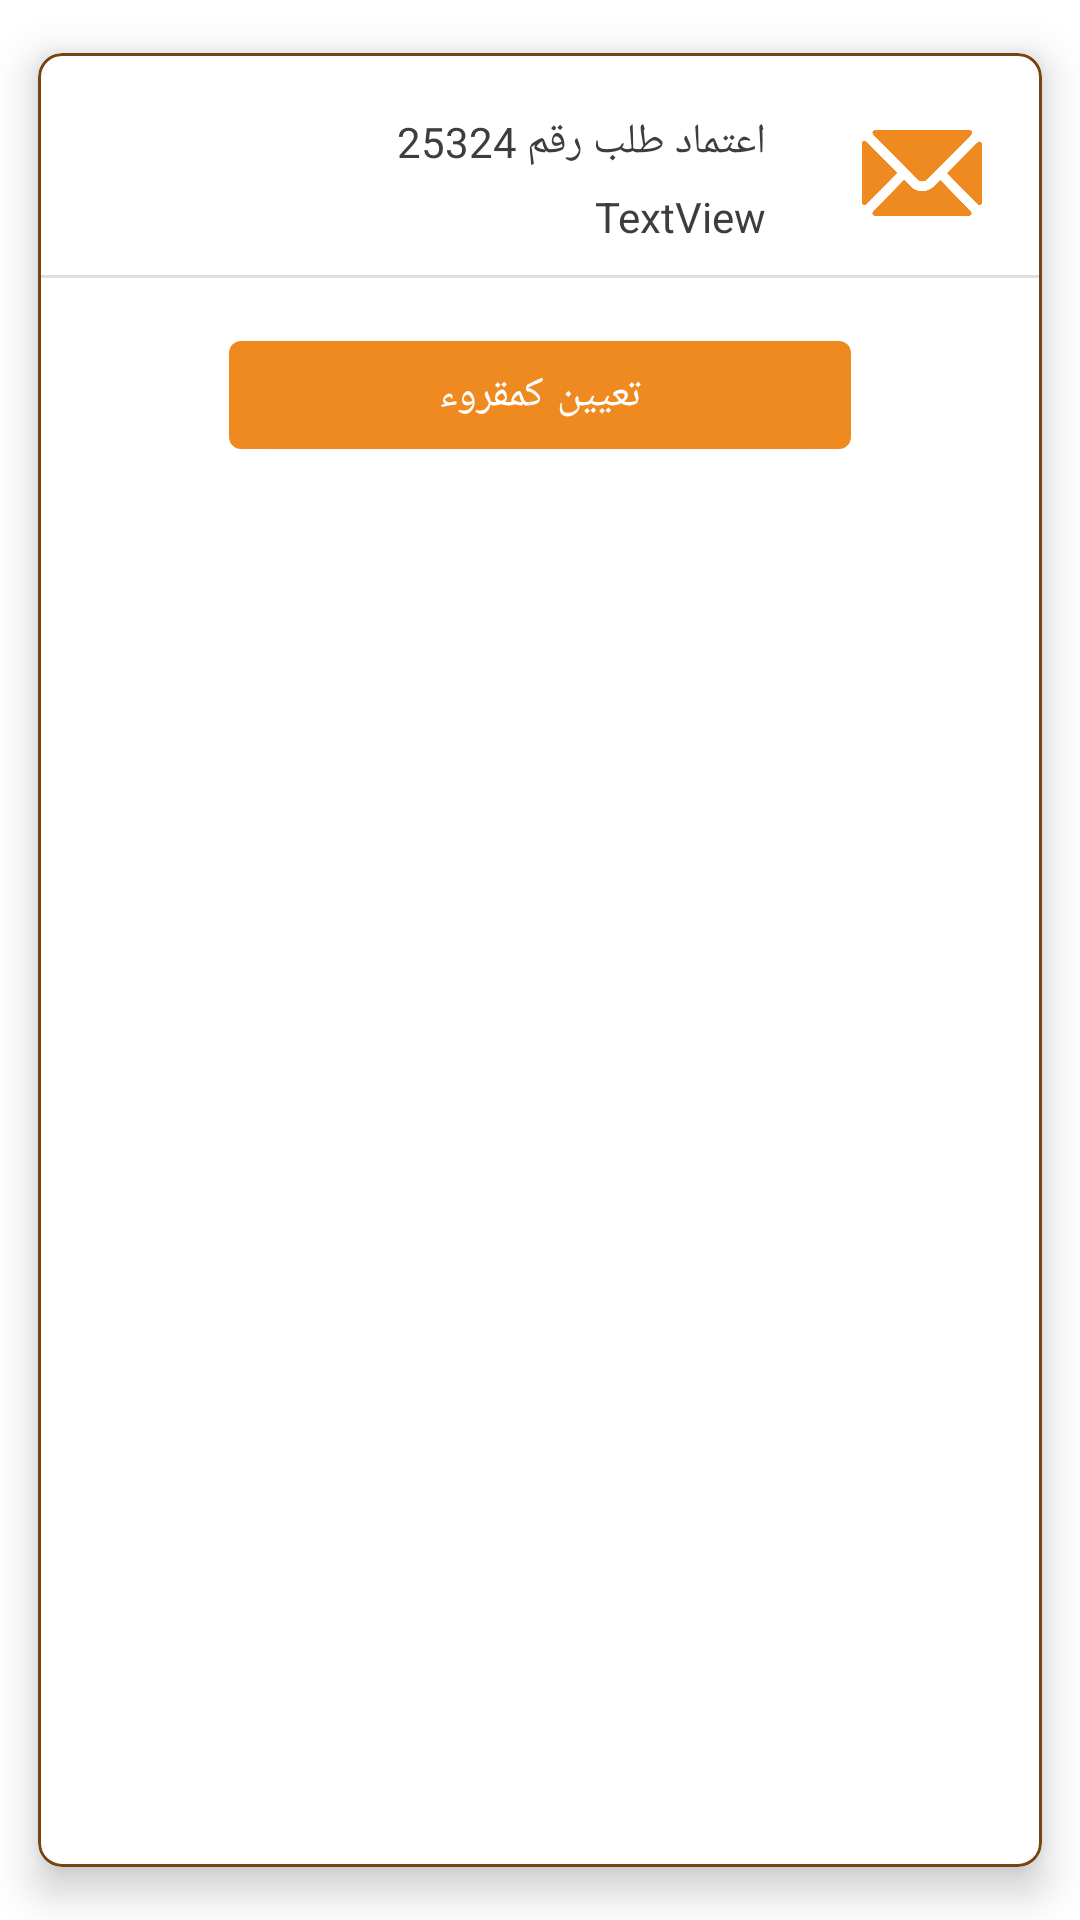

Screen size 1080w x 1920h. Icon name, then its box in pixels as (x1, y1, x2, y2):
unread msg: (862, 130, 982, 216)
